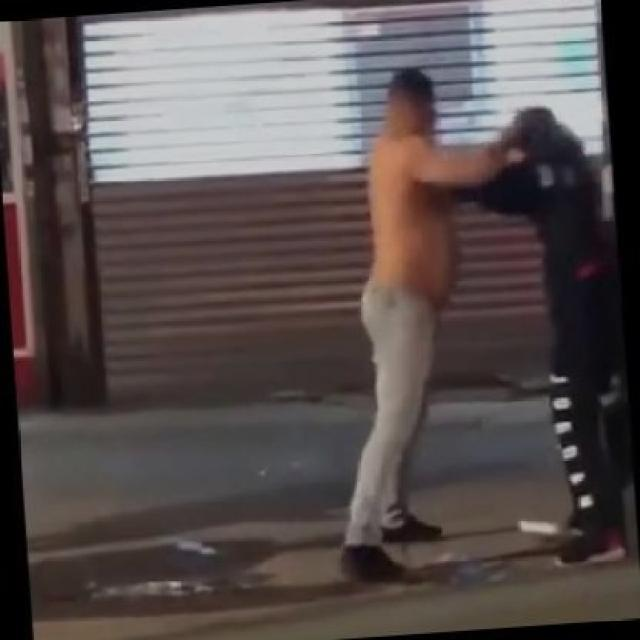fight: (338, 69, 628, 579)
